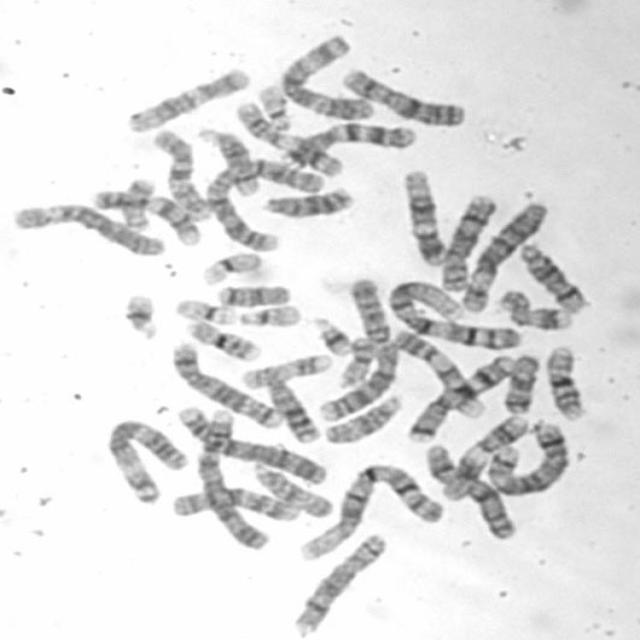A1: (295, 457, 448, 563), (382, 275, 525, 351)
A2: (200, 152, 325, 254), (315, 273, 399, 423)
A3: (278, 30, 378, 121), (103, 414, 192, 505)
B4: (170, 401, 334, 488), (188, 404, 273, 553)
B5: (165, 337, 285, 430), (482, 417, 574, 497)
C10: (148, 124, 212, 221), (167, 484, 303, 524)
C11: (230, 98, 346, 179), (434, 410, 534, 503)
C12: (121, 63, 252, 135), (398, 164, 450, 266)
C6: (453, 192, 552, 314), (8, 200, 170, 258)
C7: (404, 351, 520, 445), (276, 118, 420, 172)
C8: (290, 528, 390, 635), (434, 187, 504, 294)
C9: (388, 324, 489, 420), (87, 185, 204, 247)
D13: (256, 372, 325, 445), (256, 183, 355, 220)
D14: (514, 240, 590, 314), (192, 122, 264, 197)
D15: (247, 457, 337, 519), (320, 389, 407, 446)
E16: (540, 341, 590, 423), (181, 316, 263, 362)
E17: (238, 348, 336, 390), (494, 284, 577, 332)
E18: (500, 350, 542, 416), (214, 279, 293, 309)
F19: (198, 249, 266, 287), (170, 295, 237, 325)
F20: (336, 332, 378, 390), (116, 173, 158, 230)
G21: (119, 289, 162, 341), (308, 313, 354, 357)
G22: (253, 78, 294, 132), (236, 299, 306, 328)
X: (418, 439, 518, 542), (337, 64, 468, 129)
